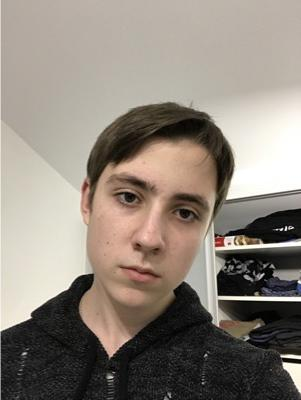without_mask: (86, 169, 212, 309)
